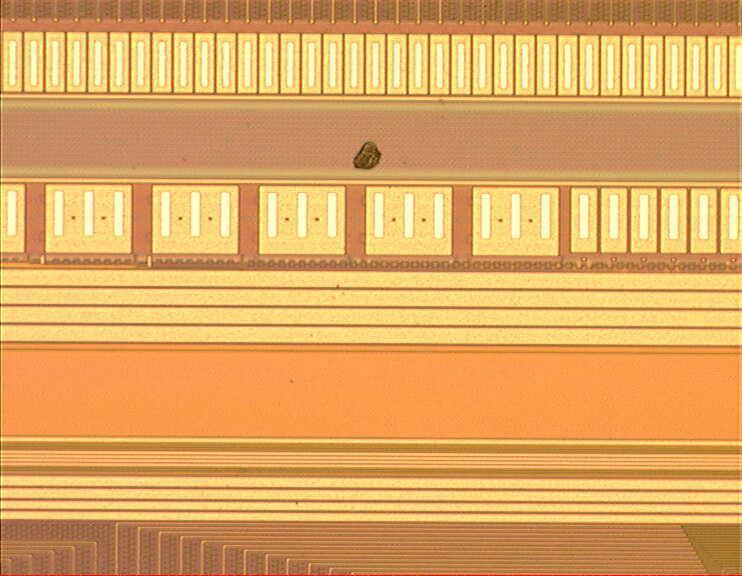PO CONTAMINATION: (350, 140, 386, 174)
